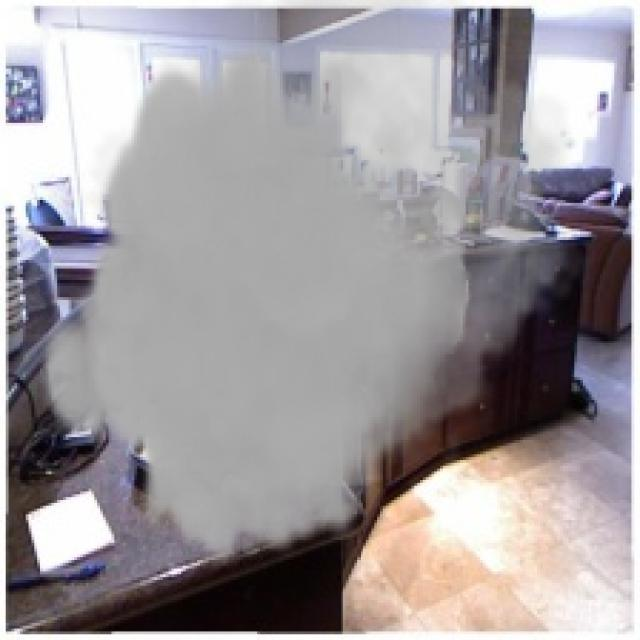Smoke: (37, 0, 589, 566)
